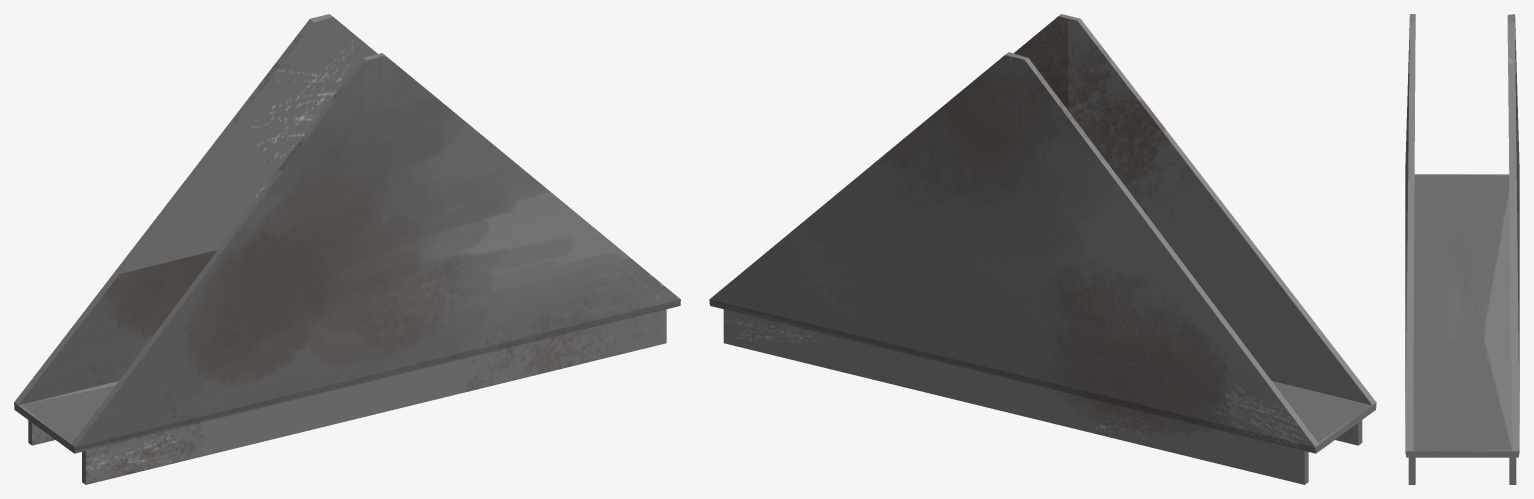
The model's file is servilletero_.fbx.
3 views of the same model, side by side, from view 1: azimuth 30°, elevation 25°; view 2: azimuth 150°, elevation 25°; view 3: azimuth 270°, elevation 25° (orthographic). The views are drawn at different scales.
Parts seen in each view (by area): view 1: Servilletero_term; view 2: Servilletero_term; view 3: Servilletero_term.
Boxes of the visible parts, x1=… form: Servilletero_term: x1=14, y1=14, x2=680, y2=484; Servilletero_term: x1=709, y1=14, x2=1376, y2=484; Servilletero_term: x1=1405, y1=14, x2=1519, y2=484.
Bounding box in the file's own units: 17.5 × 9.83 × 3.06.
Materials: 1 (1 with a texture image).
